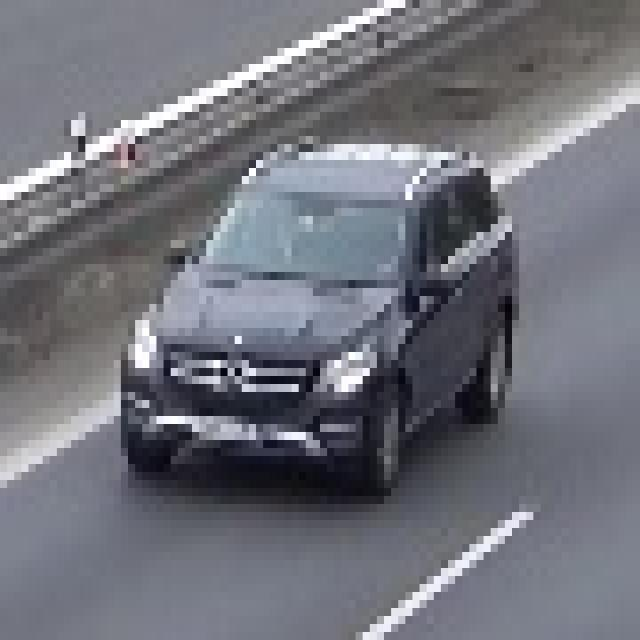SUV: (122, 140, 516, 486)
